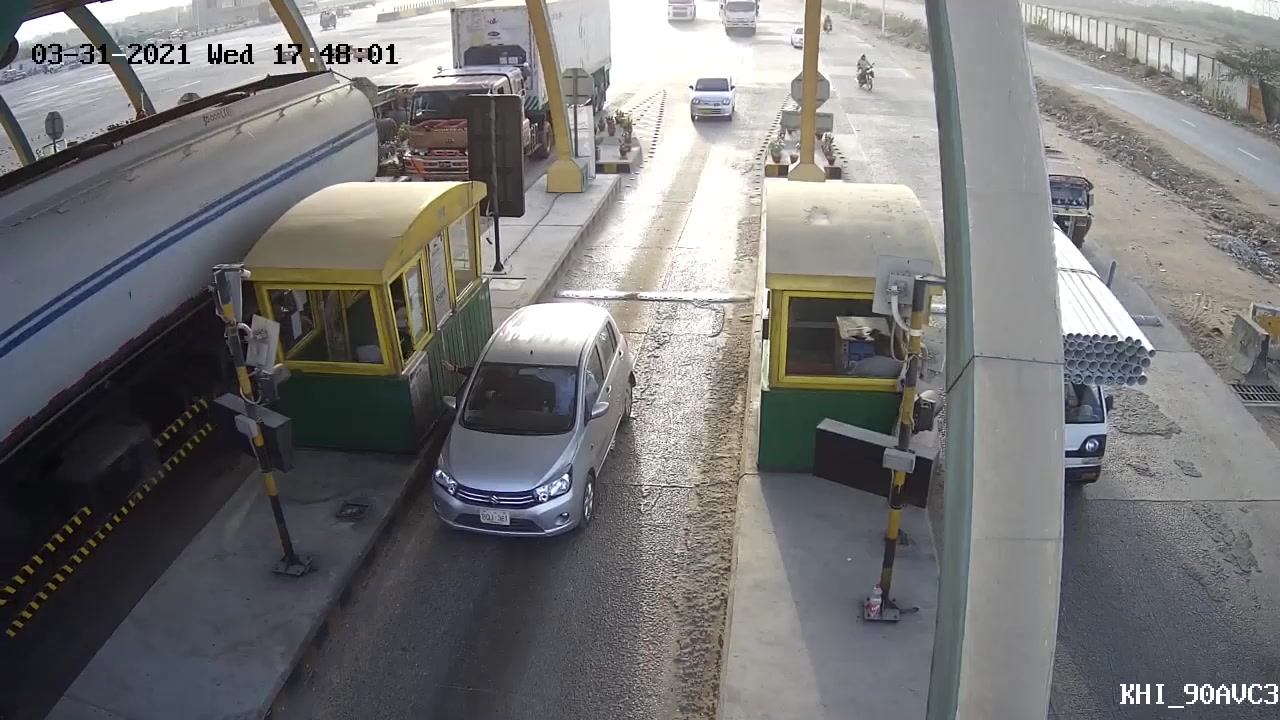F1: (411, 298, 646, 560)
